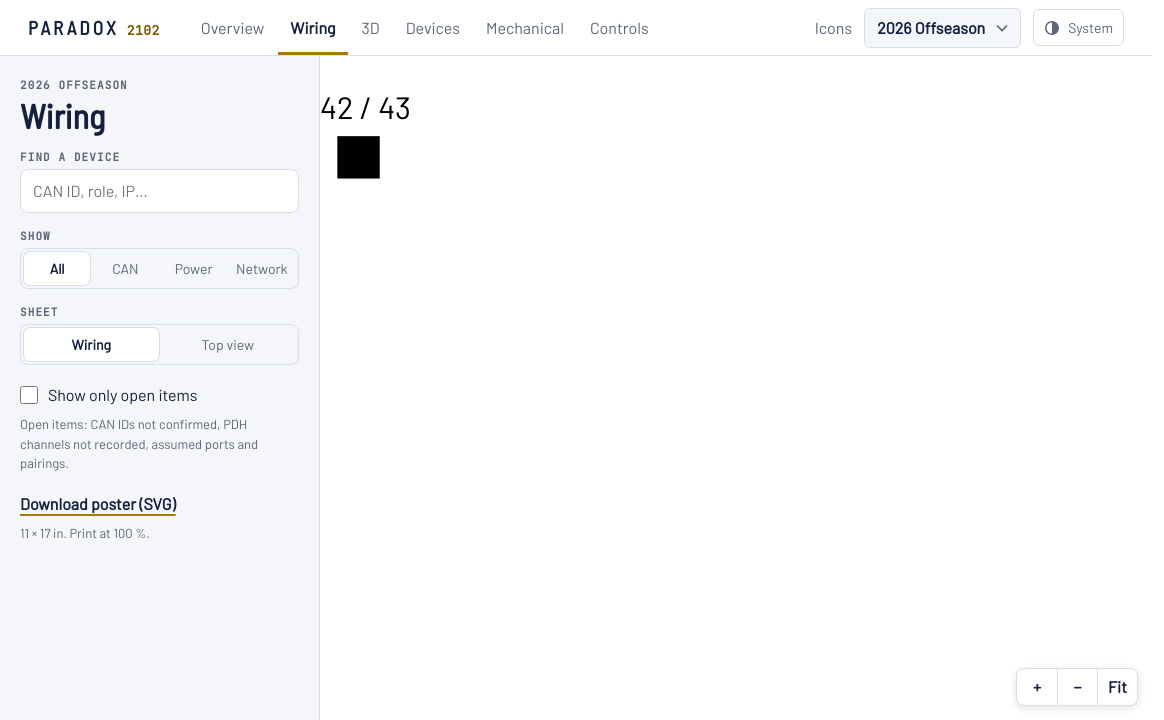
Test: search "43" finds the motor with CAN ID 42 / 43 and opens it
This screenshot has width=1164, height=720.
Type "43" into the search field named "Search devices" at (160, 191), box [20,169,299,213]
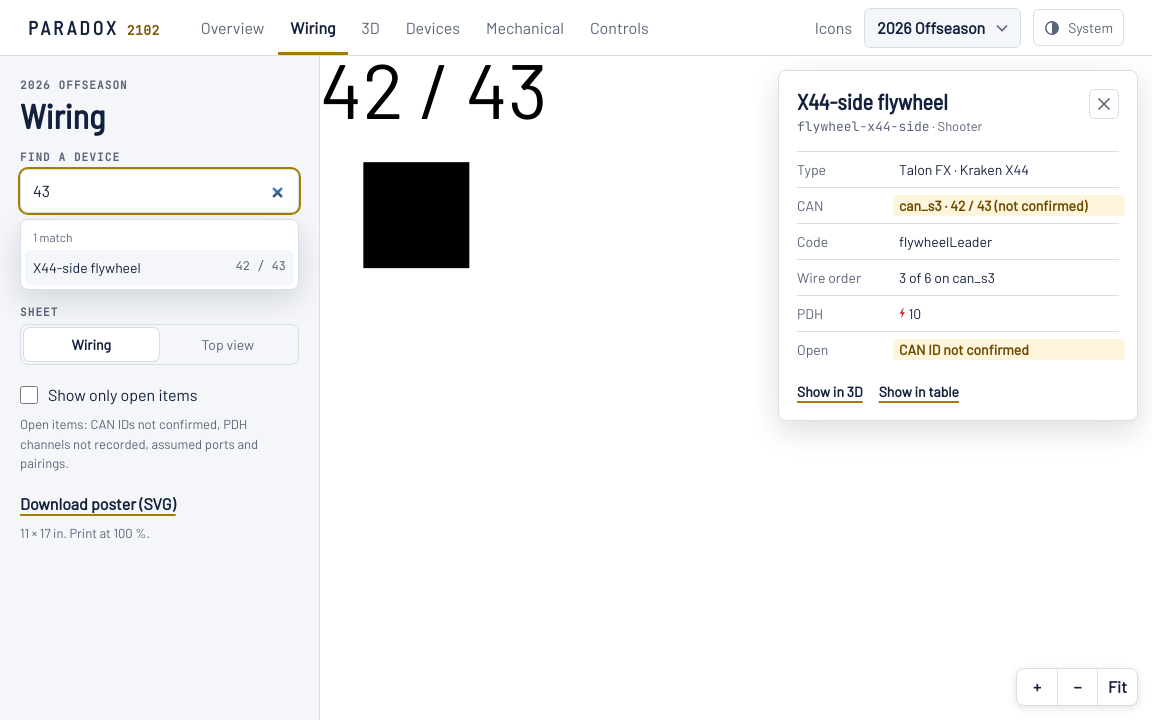
Expected: the text "1 match" is shown, [33,230,72,244]
Expected: the heading "X44-side flywheel" is shown, [797,88,948,114]
Expected: the element showing "10" is shown, [899,305,921,322]
